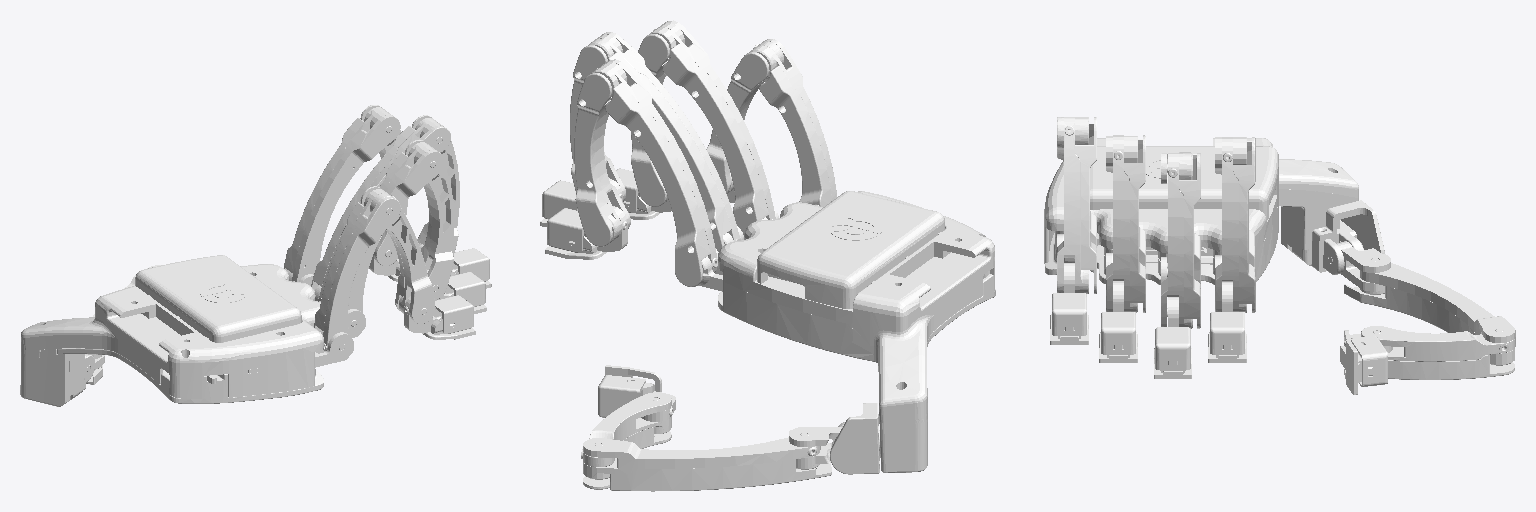
--- Facts derived from the render (not from the file) ---
Views: 3 orthographic renders of the robot side by side, from view 1: azimuth 30°, elevation 25°; view 2: azimuth 150°, elevation 25°; view 3: azimuth 270°, elevation 25°.
Model DexGlove_R_v3 with 22 links and 21 joints (21 revolute), rooted at base_link, posed every joint at zero.
Links seen in each view (by area): view 1: base_link, glove_link_r_2_2, glove_link_r_5_2, glove_link_r_4_3, glove_link_r_5_3, glove_link_r_4_2, glove_link_r_3_2, glove_link_r_5_4, glove_link_r_3_3, glove_link_r_4_4, glove_link_r_2_3, glove_link_r_3_4 (+1 smaller); view 2: base_link, glove_link_r_1_3, glove_link_r_2_2, glove_link_r_4_2, glove_link_r_2_3, glove_link_r_5_2, glove_link_r_3_2, glove_link_r_1_4, glove_link_r_1_1, glove_link_r_4_3, glove_link_r_5_3, glove_link_r_2_4 (+5 smaller); view 3: base_link, glove_link_r_1_3, glove_link_r_1_4, glove_link_r_2_3, glove_link_r_4_3, glove_link_r_3_3, glove_link_r_5_3, glove_link_r_1_1, glove_link_r_1_5, glove_link_r_5_4, glove_link_r_3_4, glove_link_r_4_4 (+6 smaller).
Boxes of the visible links, x1,y1,x2,y2 form: base_link: (20,255,323,406); glove_link_r_2_2: (284,107,400,281); glove_link_r_5_2: (314,189,400,351); glove_link_r_4_3: (405,140,454,299); glove_link_r_5_3: (361,186,435,323); glove_link_r_4_2: (348,142,444,312); glove_link_r_3_2: (311,118,450,301); glove_link_r_5_4: (404,295,475,339); glove_link_r_3_3: (412,115,459,256); glove_link_r_4_4: (427,270,486,313); glove_link_r_2_3: (360,105,408,265); glove_link_r_3_4: (450,248,491,288); base_link: (718,191,995,472); glove_link_r_1_3: (583,437,831,491); glove_link_r_2_2: (591,59,717,286); glove_link_r_4_2: (649,20,775,234); glove_link_r_2_3: (574,62,630,246); glove_link_r_5_2: (749,39,836,206); glove_link_r_3_2: (588,32,740,251); glove_link_r_1_4: (581,393,671,489); glove_link_r_1_1: (830,403,879,474); glove_link_r_4_3: (631,23,684,206); glove_link_r_5_3: (706,41,783,193); glove_link_r_2_4: (545,206,627,259); base_link: (1044,138,1358,284); glove_link_r_1_3: (1344,263,1515,365); glove_link_r_1_4: (1361,326,1515,379); glove_link_r_2_3: (1215,137,1255,312); glove_link_r_4_3: (1106,135,1145,312); glove_link_r_3_3: (1161,153,1200,328); glove_link_r_5_3: (1057,117,1096,293); glove_link_r_1_1: (1312,200,1384,274); glove_link_r_1_5: (1340,330,1392,394); glove_link_r_5_4: (1050,263,1088,344); glove_link_r_3_4: (1154,297,1191,378); glove_link_r_4_4: (1099,281,1137,362).
Bounding box of the posed robot: 0.2157 × 0.1922 × 0.1312 m (x, y, z).
Meshes: 22 distinct files referenced, 22 mesh visuals loaded (22 binary STL).

robot.urdf — DexGlove_R_v3:
<?xml version="1.0" encoding="utf-8"?>
<!-- This URDF was automatically created by SolidWorks to URDF Exporter! Originally created by Stephen Brawner ([email redacted]) 
     Commit Version: 1.6.0-4-g7f85cfe  Build Version: 1.6.7995.38578
     For more information, please see http://wiki.ros.org/sw_urdf_exporter -->
<robot
  name="DexGlove_R_v3">
  <link
    name="base_link">
    <inertial>
      <origin
        xyz="0.023761860315371 0.00951380358483844 -0.0171477452899252"
        rpy="0 0 0" />
      <mass
        value="0.0800001363416735" />
      <inertia
        ixx="8.60941152571589E-05"
        ixy="2.7160955180655E-05"
        ixz="-8.778460116554E-06"
        iyy="7.23337755569218E-05"
        iyz="7.90537520408906E-06"
        izz="0.000150602962193877" />
    </inertial>
    <visual>
      <origin
        xyz="0 0 0"
        rpy="0 0 0" />
      <geometry>
        <mesh
          filename="package://DexGlove_R_v3/meshes/base_link.STL" />
      </geometry>
      <material
        name="">
        <color
          rgba="1 1 1 1" />
      </material>
    </visual>
    <collision>
      <origin
        xyz="0 0 0"
        rpy="0 0 0" />
      <geometry>
        <mesh
          filename="package://DexGlove_R_v3/meshes/base_link.STL" />
      </geometry>
    </collision>
  </link>
  <link
    name="glove_link_r_1_1">
    <inertial>
      <origin
        xyz="-0.00215560282431622 -0.00338452396256511 -0.0131217612115497"
        rpy="0 0 0" />
      <mass
        value="0.00385822214196221" />
      <inertia
        ixx="2.65496370188704E-07"
        ixy="-5.80377894359212E-09"
        ixz="6.46131186950765E-09"
        iyy="2.67304557171569E-07"
        iyz="-3.27448436607223E-08"
        izz="2.83529407418494E-07" />
    </inertial>
    <visual>
      <origin
        xyz="0 0 0"
        rpy="0 0 0" />
      <geometry>
        <mesh
          filename="package://DexGlove_R_v3/meshes/glove_link_r_1_1.STL" />
      </geometry>
      <material
        name="">
        <color
          rgba="1 1 1 1" />
      </material>
    </visual>
    <collision>
      <origin
        xyz="0 0 0"
        rpy="0 0 0" />
      <geometry>
        <mesh
          filename="package://DexGlove_R_v3/meshes/glove_link_r_1_1.STL" />
      </geometry>
    </collision>
  </link>
  <joint
    name="glove_joint_r_1_1"
    type="revolute">
    <origin
      xyz="-0.020715 0.061876 -0.050557"
      rpy="1.0492 1.5085 -1.5708" />
    <parent
      link="base_link" />
    <child
      link="glove_link_r_1_1" />
    <axis
      xyz="0 0 1" />
    <limit
      lower="-3.1416"
      upper="3.1416"
      effort="0"
      velocity="0" />
  </joint>
  <link
    name="glove_link_r_1_2">
    <inertial>
      <origin
        xyz="0.000703204634177113 0.0127309630254523 -0.00288012020718703"
        rpy="0 0 0" />
      <mass
        value="0.00199934399680952" />
      <inertia
        ixx="1.4141492897948E-07"
        ixy="-5.06019699424475E-09"
        ixz="1.28470320759737E-09"
        iyy="5.78189620081375E-08"
        iyz="2.26573887461125E-08"
        izz="1.46649343573011E-07" />
    </inertial>
    <visual>
      <origin
        xyz="0 0 0"
        rpy="0 0 0" />
      <geometry>
        <mesh
          filename="package://DexGlove_R_v3/meshes/glove_link_r_1_2.STL" />
      </geometry>
      <material
        name="">
        <color
          rgba="1 1 1 1" />
      </material>
    </visual>
    <collision>
      <origin
        xyz="0 0 0"
        rpy="0 0 0" />
      <geometry>
        <mesh
          filename="package://DexGlove_R_v3/meshes/glove_link_r_1_2.STL" />
      </geometry>
    </collision>
  </link>
  <joint
    name="glove_joint_r_1_2"
    type="revolute">
    <origin
      xyz="0 0 -0.01925"
      rpy="-1.5708 0.031013 -0.054007" />
    <parent
      link="glove_link_r_1_1" />
    <child
      link="glove_link_r_1_2" />
    <axis
      xyz="0 0 1" />
    <limit
      lower="-3.1416"
      upper="3.1416"
      effort="0"
      velocity="0" />
  </joint>
  <link
    name="glove_link_r_1_3">
    <inertial>
      <origin
        xyz="0.0300564898606841 0.0332986622768831 0.00327888929656313"
        rpy="0 0 0" />
      <mass
        value="0.00757174828550405" />
      <inertia
        ixx="3.77011461304591E-06"
        ixy="-2.69626743699442E-06"
        ixz="1.55556957056538E-08"
        iyy="2.22966959980734E-06"
        iyz="6.16335901993104E-09"
        izz="5.88475844741757E-06" />
    </inertial>
    <visual>
      <origin
        xyz="0 0 0"
        rpy="0 0 0" />
      <geometry>
        <mesh
          filename="package://DexGlove_R_v3/meshes/glove_link_r_1_3.STL" />
      </geometry>
      <material
        name="">
        <color
          rgba="1 1 1 1" />
      </material>
    </visual>
    <collision>
      <origin
        xyz="0 0 0"
        rpy="0 0 0" />
      <geometry>
        <mesh
          filename="package://DexGlove_R_v3/meshes/glove_link_r_1_3.STL" />
      </geometry>
    </collision>
  </link>
  <joint
    name="glove_joint_r_1_3"
    type="revolute">
    <origin
      xyz="0 0.0185 -0.0047"
      rpy="1.5708 1.05 1.5708" />
    <parent
      link="glove_link_r_1_2" />
    <child
      link="glove_link_r_1_3" />
    <axis
      xyz="0 0 -1" />
    <limit
      lower="-3.1416"
      upper="3.1416"
      effort="0"
      velocity="0" />
  </joint>
  <link
    name="glove_link_r_1_4">
    <inertial>
      <origin
        xyz="-0.0273027203066123 0.00433297070625258 0.00241777178524144"
        rpy="0 0 0" />
      <mass
        value="0.00546091639196909" />
      <inertia
        ixx="1.23496798110625E-07"
        ixy="1.24147394764359E-08"
        ixz="2.00681155066105E-08"
        iyy="1.50189627783358E-06"
        iyz="7.83448669164175E-09"
        izz="1.5343988014535E-06" />
    </inertial>
    <visual>
      <origin
        xyz="0 0 0"
        rpy="0 0 0" />
      <geometry>
        <mesh
          filename="package://DexGlove_R_v3/meshes/glove_link_r_1_4.STL" />
      </geometry>
      <material
        name="">
        <color
          rgba="1 1 1 1" />
      </material>
    </visual>
    <collision>
      <origin
        xyz="0 0 0"
        rpy="0 0 0" />
      <geometry>
        <mesh
          filename="package://DexGlove_R_v3/meshes/glove_link_r_1_4.STL" />
      </geometry>
    </collision>
  </link>
  <joint
    name="glove_joint_r_1_4"
    type="revolute">
    <origin
      xyz="0.050645 0.068265 0"
      rpy="0 0 0" />
    <parent
      link="glove_link_r_1_3" />
    <child
      link="glove_link_r_1_4" />
    <axis
      xyz="0 0 -1" />
    <limit
      lower="-3.1416"
      upper="3.1416"
      effort="0"
      velocity="0" />
  </joint>
  <link
    name="glove_link_r_1_5">
    <inertial>
      <origin
        xyz="-0.00576308402246906 0.0141715905203049 -1.25793672523661E-07"
        rpy="0 0 0" />
      <mass
        value="0.00340265713988394" />
      <inertia
        ixx="2.78681728351716E-07"
        ixy="4.89958730526717E-09"
        ixz="-2.02672654226436E-12"
        iyy="1.06533402001961E-07"
        iyz="3.39837380726619E-12"
        izz="2.61408336175759E-07" />
    </inertial>
    <visual>
      <origin
        xyz="0 0 0"
        rpy="0 0 0" />
      <geometry>
        <mesh
          filename="package://DexGlove_R_v3/meshes/glove_link_r_1_5.STL" />
      </geometry>
      <material
        name="">
        <color
          rgba="1 1 1 1" />
      </material>
    </visual>
    <collision>
      <origin
        xyz="0 0 0"
        rpy="0 0 0" />
      <geometry>
        <mesh
          filename="package://DexGlove_R_v3/meshes/glove_link_r_1_5.STL" />
      </geometry>
    </collision>
  </link>
  <joint
    name="glove_joint_r_1_5"
    type="revolute">
    <origin
      xyz="-0.049966 0.0018328 0"
      rpy="0 0 0" />
    <parent
      link="glove_link_r_1_4" />
    <child
      link="glove_link_r_1_5" />
    <axis
      xyz="0 0 -1" />
    <limit
      lower="-3.1416"
      upper="3.1416"
      effort="0"
      velocity="0" />
  </joint>
  <link
    name="glove_link_r_2_1">
    <inertial>
      <origin
        xyz="0.000747078578568816 0.0129611689921841 -0.00251565033753172"
        rpy="0 0 0" />
      <mass
        value="0.00185408804040392" />
      <inertia
        ixx="1.3826521595293E-07"
        ixy="-5.67644938603439E-09"
        ixz="9.85785900713521E-10"
        iyy="5.23525487330407E-08"
        iyz="2.30715174168708E-08"
        izz="1.44653206569029E-07" />
    </inertial>
    <visual>
      <origin
        xyz="0 0 0"
        rpy="0 0 0" />
      <geometry>
        <mesh
          filename="package://DexGlove_R_v3/meshes/glove_link_r_2_1.STL" />
      </geometry>
      <material
        name="">
        <color
          rgba="1 1 1 1" />
      </material>
    </visual>
    <collision>
      <origin
        xyz="0 0 0"
        rpy="0 0 0" />
      <geometry>
        <mesh
          filename="package://DexGlove_R_v3/meshes/glove_link_r_2_1.STL" />
      </geometry>
    </collision>
  </link>
  <joint
    name="glove_joint_r_2_1"
    type="revolute">
    <origin
      xyz="0.074852 0.024382 -0.017"
      rpy="3.1416 0 1.5708" />
    <parent
      link="base_link" />
    <child
      link="glove_link_r_2_1" />
    <axis
      xyz="0 0 1" />
    <limit
      lower="-3.1416"
      upper="3.1416"
      effort="0"
      velocity="0" />
  </joint>
  <link
    name="glove_link_r_2_2">
    <inertial>
      <origin
        xyz="-0.0432047249107304 0.0188212441937342 -0.00192897538363368"
        rpy="0 0 0" />
      <mass
        value="0.00689032055294319" />
      <inertia
        ixx="1.55216189683491E-06"
        ixy="2.28437720762957E-06"
        ixz="2.02312774105471E-09"
        iyy="4.03818002550441E-06"
        iyz="1.20327742388734E-08"
        izz="5.502047740829E-06" />
    </inertial>
    <visual>
      <origin
        xyz="0 0 0"
        rpy="0 0 0" />
      <geometry>
        <mesh
          filename="package://DexGlove_R_v3/meshes/glove_link_r_2_2.STL" />
      </geometry>
      <material
        name="">
        <color
          rgba="1 1 1 1" />
      </material>
    </visual>
    <collision>
      <origin
        xyz="0 0 0"
        rpy="0 0 0" />
      <geometry>
        <mesh
          filename="package://DexGlove_R_v3/meshes/glove_link_r_2_2.STL" />
      </geometry>
    </collision>
  </link>
  <joint
    name="glove_joint_r_2_2"
    type="revolute">
    <origin
      xyz="0 0.0185 -0.0047"
      rpy="0 -1.5708 0" />
    <parent
      link="glove_link_r_2_1" />
    <child
      link="glove_link_r_2_2" />
    <axis
      xyz="0 0 1" />
    <limit
      lower="-3.1416"
      upper="3.1416"
      effort="0"
      velocity="0" />
  </joint>
  <link
    name="glove_link_r_2_3">
    <inertial>
      <origin
        xyz="0.0373475264795882 0.00422086383729055 -0.00270027714902976"
        rpy="0 0 0" />
      <mass
        value="0.00556501270482669" />
      <inertia
        ixx="1.5408832390469E-07"
        ixy="6.31594517824487E-08"
        ixz="2.82032055407321E-09"
        iyy="2.78387109298286E-06"
        iyz="-2.2972311186309E-09"
        izz="2.8588292783013E-06" />
    </inertial>
    <visual>
      <origin
        xyz="0 0 0"
        rpy="0 0 0" />
      <geometry>
        <mesh
          filename="package://DexGlove_R_v3/meshes/glove_link_r_2_3.STL" />
      </geometry>
      <material
        name="">
        <color
          rgba="1 1 1 1" />
      </material>
    </visual>
    <collision>
      <origin
        xyz="0 0 0"
        rpy="0 0 0" />
      <geometry>
        <mesh
          filename="package://DexGlove_R_v3/meshes/glove_link_r_2_3.STL" />
      </geometry>
    </collision>
  </link>
  <joint
    name="glove_joint_r_2_3"
    type="revolute">
    <origin
      xyz="-0.073326 0.042996 -0.0001"
      rpy="0 0 0" />
    <parent
      link="glove_link_r_2_2" />
    <child
      link="glove_link_r_2_3" />
    <axis
      xyz="0 0 1" />
    <limit
      lower="-3.1416"
      upper="3.1416"
      effort="0"
      velocity="0" />
  </joint>
  <link
    name="glove_link_r_2_4">
    <inertial>
      <origin
        xyz="0.00925772788453139 0.0130310623410815 4.64213166795346E-08"
        rpy="0 0 0" />
      <mass
        value="0.00329765568443397" />
      <inertia
        ixx="2.60953801146797E-07"
        ixy="-5.2973147605156E-08"
        ixz="-3.04246220291912E-12"
        iyy="1.0984655124966E-07"
        iyz="-5.64849613594494E-12"
        izz="2.70314932688703E-07" />
    </inertial>
    <visual>
      <origin
        xyz="0 0 0"
        rpy="0 0 0" />
      <geometry>
        <mesh
          filename="package://DexGlove_R_v3/meshes/glove_link_r_2_4.STL" />
      </geometry>
      <material
        name="">
        <color
          rgba="1 1 1 1" />
      </material>
    </visual>
    <collision>
      <origin
        xyz="0 0 0"
        rpy="0 0 0" />
      <geometry>
        <mesh
          filename="package://DexGlove_R_v3/meshes/glove_link_r_2_4.STL" />
      </geometry>
    </collision>
  </link>
  <joint
    name="glove_joint_r_2_4"
    type="revolute">
    <origin
      xyz="0.064976 -0.00029093 0.0001"
      rpy="0 0 0" />
    <parent
      link="glove_link_r_2_3" />
    <child
      link="glove_link_r_2_4" />
    <axis
      xyz="0 0 1" />
    <limit
      lower="-3.1416"
      upper="3.1416"
      effort="0"
      velocity="0" />
  </joint>
  <link
    name="glove_link_r_3_1">
    <inertial>
      <origin
        xyz="0.000747078356090336 0.0129546278341492 -0.00252357406932724"
        rpy="0 0 0" />
      <mass
        value="0.00185408804040393" />
      <inertia
        ixx="1.38265216147807E-07"
        ixy="-5.67378167842018E-09"
        ixz="9.89015279335301E-10"
        iyy="5.22983364011677E-08"
        iyz="2.30610586528733E-08"
        izz="1.44707418706026E-07" />
    </inertial>
    <visual>
      <origin
        xyz="0 0 0"
        rpy="0 0 0" />
      <geometry>
        <mesh
          filename="package://DexGlove_R_v3/meshes/glove_link_r_3_1.STL" />
      </geometry>
      <material
        name="">
        <color
          rgba="1 1 1 1" />
      </material>
    </visual>
    <collision>
      <origin
        xyz="0 0 0"
        rpy="0 0 0" />
      <geometry>
        <mesh
          filename="package://DexGlove_R_v3/meshes/glove_link_r_3_1.STL" />
      </geometry>
    </collision>
  </link>
  <joint
    name="glove_joint_r_3_1"
    type="revolute">
    <origin
      xyz="0.076856 0.0021271 -0.01675"
      rpy="3.1416 0 1.5708" />
    <parent
      link="base_link" />
    <child
      link="glove_link_r_3_1" />
    <axis
      xyz="0 0 1" />
    <limit
      lower="-3.1416"
      upper="3.1416"
      effort="0"
      velocity="0" />
  </joint>
  <link
    name="glove_link_r_3_2">
    <inertial>
      <origin
        xyz="-0.0437503754011137 0.0254652883230961 -0.00193337245558944"
        rpy="0 0 0" />
      <mass
        value="0.00714939436781028" />
      <inertia
        ixx="2.63983476830821E-06"
        ixy="3.10758948967801E-06"
        ixz="8.34288494523747E-09"
        iyy="4.22295638672389E-06"
        iyz="1.00310120051534E-08"
        izz="6.77592921190429E-06" />
    </inertial>
    <visual>
      <origin
        xyz="0 0 0"
        rpy="0 0 0" />
      <geometry>
        <mesh
          filename="package://DexGlove_R_v3/meshes/glove_link_r_3_2.STL" />
      </geometry>
      <material
        name="">
        <color
          rgba="1 1 1 1" />
      </material>
    </visual>
    <collision>
      <origin
        xyz="0 0 0"
        rpy="0 0 0" />
      <geometry>
        <mesh
          filename="package://DexGlove_R_v3/meshes/glove_link_r_3_2.STL" />
      </geometry>
    </collision>
  </link>
  <joint
    name="glove_joint_r_3_2"
    type="revolute">
    <origin
      xyz="0 0.0185 -0.0047"
      rpy="0 -1.5708 0" />
    <parent
      link="glove_link_r_3_1" />
    <child
      link="glove_link_r_3_2" />
    <axis
      xyz="0 0 1" />
    <limit
      lower="-3.1416"
      upper="3.1416"
      effort="0"
      velocity="0" />
  </joint>
  <link
    name="glove_link_r_3_3">
    <inertial>
      <origin
        xyz="0.0373342972773562 0.00433589063270132 -0.00270667841776762"
        rpy="0 0 0" />
      <mass
        value="0.00556501261668927" />
      <inertia
        ixx="1.53717054500497E-07"
        ixy="5.51257812971243E-08"
        ixz="2.82525599982385E-09"
        iyy="2.78424229454622E-06"
        iyz="-2.29015298179469E-09"
        izz="2.85882921129466E-06" />
    </inertial>
    <visual>
      <origin
        xyz="0 0 0"
        rpy="0 0 0" />
      <geometry>
        <mesh
          filename="package://DexGlove_R_v3/meshes/glove_link_r_3_3.STL" />
      </geometry>
      <material
        name="">
        <color
          rgba="1 1 1 1" />
      </material>
    </visual>
    <collision>
      <origin
        xyz="0 0 0"
        rpy="0 0 0" />
      <geometry>
        <mesh
          filename="package://DexGlove_R_v3/meshes/glove_link_r_3_3.STL" />
      </geometry>
    </collision>
  </link>
  <joint
    name="glove_joint_r_3_3"
    type="revolute">
    <origin
      xyz="-0.073077 0.055905 0"
      rpy="0 0 0" />
    <parent
      link="glove_link_r_3_2" />
    <child
      link="glove_link_r_3_3" />
    <axis
      xyz="0 0 1" />
    <limit
      lower="-3.1416"
      upper="3.1416"
      effort="0"
      velocity="0" />
  </joint>
  <link
    name="glove_link_r_3_4">
    <inertial>
      <origin
        xyz="0.00925772788453095 0.0130310623145435 4.65750134015508E-08"
        rpy="0 0 0" />
      <mass
        value="0.00329765568443365" />
      <inertia
        ixx="2.60953801146768E-07"
        ixy="-5.29731476051154E-08"
        ixz="-3.0430870017335E-12"
        iyy="1.09846551249788E-07"
        iyz="-5.65038881151817E-12"
        izz="2.70314932688544E-07" />
    </inertial>
    <visual>
      <origin
        xyz="0 0 0"
        rpy="0 0 0" />
      <geometry>
        <mesh
          filename="package://DexGlove_R_v3/meshes/glove_link_r_3_4.STL" />
      </geometry>
      <material
        name="">
        <color
          rgba="1 1 1 1" />
      </material>
    </visual>
    <collision>
      <origin
        xyz="0 0 0"
        rpy="0 0 0" />
      <geometry>
        <mesh
          filename="package://DexGlove_R_v3/meshes/glove_link_r_3_4.STL" />
      </geometry>
    </collision>
  </link>
  <joint
    name="glove_joint_r_3_4"
    type="revolute">
    <origin
      xyz="0.064977 -8.5765E-05 0"
      rpy="0 0 0" />
    <parent
      link="glove_link_r_3_3" />
    <child
      link="glove_link_r_3_4" />
    <axis
      xyz="0 0 1" />
    <limit
      lower="-3.1416"
      upper="3.1416"
      effort="0"
      velocity="0" />
  </joint>
  <link
    name="glove_link_r_4_1">
    <inertial>
      <origin
        xyz="0.000747078508896659 0.0129578089451243 -0.00250603590511165"
        rpy="0 0 0" />
      <mass
        value="0.0018540880404039" />
      <inertia
        ixx="1.38265216013955E-07"
        ixy="-5.6750793414947E-09"
        ixz="9.81866859466802E-10"
        iyy="5.23183644678508E-08"
        iyz="2.31144513264536E-08"
        izz="1.44687390773191E-07" />
    </inertial>
    <visual>
      <origin
        xyz="0 0 0"
        rpy="0 0 0" />
      <geometry>
        <mesh
          filename="package://DexGlove_R_v3/meshes/glove_link_r_4_1.STL" />
      </geometry>
      <material
        name="">
        <color
          rgba="1 1 1 1" />
      </material>
    </visual>
    <collision>
      <origin
        xyz="0 0 0"
        rpy="0 0 0" />
      <geometry>
        <mesh
          filename="package://DexGlove_R_v3/meshes/glove_link_r_4_1.STL" />
      </geometry>
    </collision>
  </link>
  <joint
    name="glove_joint_r_4_1"
    type="revolute">
    <origin
      xyz="0.072856 -0.020125 -0.01675"
      rpy="3.1416 0 1.5708" />
    <parent
      link="base_link" />
    <child
      link="glove_link_r_4_1" />
    <axis
      xyz="0 0 1" />
    <limit
      lower="-3.1416"
      upper="3.1416"
      effort="0"
      velocity="0" />
  </joint>
  <link
    name="glove_link_r_4_2">
    <inertial>
      <origin
        xyz="-0.0430884132210104 0.0190905916088625 -0.00192897541064418"
        rpy="0 0 0" />
      <mass
        value="0.00689032059597664" />
      <inertia
        ixx="1.58042021295108E-06"
        ixy="2.29956267231873E-06"
        ixz="2.09602471223716E-09"
        iyy="4.00992174752506E-06"
        iyz="1.20161069466051E-08"
        izz="5.50204777893461E-06" />
    </inertial>
    <visual>
      <origin
        xyz="0 0 0"
        rpy="0 0 0" />
      <geometry>
        <mesh
          filename="package://DexGlove_R_v3/meshes/glove_link_r_4_2.STL" />
      </geometry>
      <material
        name="">
        <color
          rgba="1 1 1 1" />
      </material>
    </visual>
    <collision>
      <origin
        xyz="0 0 0"
        rpy="0 0 0" />
      <geometry>
        <mesh
          filename="package://DexGlove_R_v3/meshes/glove_link_r_4_2.STL" />
      </geometry>
    </collision>
  </link>
  <joint
    name="glove_joint_r_4_2"
    type="revolute">
    <origin
      xyz="0 0.0185 -0.0047"
      rpy="0 -1.5708 0" />
    <parent
      link="glove_link_r_4_1" />
    <child
      link="glove_link_r_4_2" />
    <axis
      xyz="0 0 1" />
    <limit
      lower="-3.1416"
      upper="3.1416"
      effort="0"
      velocity="0" />
  </joint>
  <link
    name="glove_link_r_4_3">
    <inertial>
      <origin
        xyz="0.0372363657672597 0.00510874992183366 -0.00270454458666469"
        rpy="0 0 0" />
      <mass
        value="0.00556501163223649" />
      <inertia
        ixx="1.52565231755437E-07"
        ixy="5.45417482540578E-10"
        ixz="2.87276702758357E-09"
        iyy="2.78539357233941E-06"
        iyz="-2.23049102822039E-09"
        izz="2.85882865912642E-06" />
    </inertial>
    <visual>
      <origin
        xyz="0 0 0"
        rpy="0 0 0" />
      <geometry>
        <mesh
          filename="package://DexGlove_R_v3/meshes/glove_link_r_4_3.STL" />
      </geometry>
      <material
        name="">
        <color
          rgba="1 1 1 1" />
      </material>
    </visual>
    <collision>
      <origin
        xyz="0 0 0"
        rpy="0 0 0" />
      <geometry>
        <mesh
          filename="package://DexGlove_R_v3/meshes/glove_link_r_4_3.STL" />
      </geometry>
    </collision>
  </link>
  <joint
    name="glove_joint_r_4_3"
    type="revolute">
    <origin
      xyz="-0.073065 0.043442 0"
      rpy="0 0 0" />
    <parent
      link="glove_link_r_4_2" />
    <child
      link="glove_link_r_4_3" />
    <axis
      xyz="0 0 1" />
    <limit
      lower="-3.1416"
      upper="3.1416"
      effort="0"
      velocity="0" />
  </joint>
  <link
    name="glove_link_r_4_4">
    <inertial>
      <origin
        xyz="0.00925772788453125 0.0130310623410814 4.64213162354454E-08"
        rpy="0 0 0" />
      <mass
        value="0.00329765568443398" />
      <inertia
        ixx="2.60953801146803E-07"
        ixy="-5.29731476051561E-08"
        ixz="-3.04246220287962E-12"
        iyy="1.09846551249661E-07"
        iyz="-5.6484961331052E-12"
        izz="2.70314932688709E-07" />
    </inertial>
    <visual>
      <origin
        xyz="0 0 0"
        rpy="0 0 0" />
      <geometry>
        <mesh
          filename="package://DexGlove_R_v3/meshes/glove_link_r_4_4.STL" />
      </geometry>
      <material
        name="">
        <color
          rgba="1 1 1 1" />
      </material>
    </visual>
    <collision>
      <origin
        xyz="0 0 0"
        rpy="0 0 0" />
      <geometry>
        <mesh
          filename="package://DexGlove_R_v3/meshes/glove_link_r_4_4.STL" />
      </geometry>
    </collision>
  </link>
  <joint
    name="glove_joint_r_4_4"
    type="revolute">
    <origin
      xyz="0.064965 0.0012591 0"
      rpy="0 0 0" />
    <parent
      link="glove_link_r_4_3" />
    <child
      link="glove_link_r_4_4" />
    <axis
      xyz="0 0 1" />
    <limit
      lower="-3.1416"
      upper="3.1416"
      effort="0"
      velocity="0" />
  </joint>
  <link
    name="glove_link_r_5_1">
    <inertial>
      <origin
        xyz="0.000747078469971685 0.0129542437218486 -0.00250397139958741"
        rpy="0 0 0" />
      <mass
        value="0.00185408804040391" />
      <inertia
        ixx="1.38265216048051E-07"
        ixy="-5.67362586970243E-09"
        ixz="9.81025281521775E-10"
        iyy="5.22967300625831E-08"
        iyz="2.31020348480337E-08"
        izz="1.44709025144363E-07" />
    </inertial>
    <visual>
      <origin
        xyz="0 0 0"
        rpy="0 0 0" />
      <geometry>
        <mesh
          filename="package://DexGlove_R_v3/meshes/glove_link_r_5_1.STL" />
      </geometry>
      <material
        name="">
        <color
          rgba="1 1 1 1" />
      </material>
    </visual>
    <collision>
      <origin
        xyz="0 0 0"
        rpy="0 0 0" />
      <geometry>
        <mesh
          filename="package://DexGlove_R_v3/meshes/glove_link_r_5_1.STL" />
      </geometry>
    </collision>
  </link>
  <joint
    name="glove_joint_r_5_1"
    type="revolute">
    <origin
      xyz="0.054856 -0.040125 -0.01675"
      rpy="-3.1416 0 1.5708" />
    <parent
      link="base_link" />
    <child
      link="glove_link_r_5_1" />
    <axis
      xyz="0 0 1" />
    <limit
      lower="-3.1416"
      upper="3.1416"
      effort="0"
      velocity="0" />
  </joint>
  <link
    name="glove_link_r_5_2">
    <inertial>
      <origin
        xyz="-0.0377511137570105 0.0103117298233965 -0.00190285306973448"
        rpy="0 0 0" />
      <mass
        value="0.00576773064486739" />
      <inertia
        ixx="5.60438385538893E-07"
        ixy="1.03395210537287E-06"
        ixz="-1.85893116849145E-09"
        iyy="2.69965910418639E-06"
        iyz="1.01236697792008E-08"
        izz="3.18135158700318E-06" />
    </inertial>
    <visual>
      <origin
        xyz="0 0 0"
        rpy="0 0 0" />
      <geometry>
        <mesh
          filename="package://DexGlove_R_v3/meshes/glove_link_r_5_2.STL" />
      </geometry>
      <material
        name="">
        <color
          rgba="1 1 1 1" />
      </material>
    </visual>
    <collision>
      <origin
        xyz="0 0 0"
        rpy="0 0 0" />
      <geometry>
        <mesh
          filename="package://DexGlove_R_v3/meshes/glove_link_r_5_2.STL" />
      </geometry>
    </collision>
  </link>
  <joint
    name="glove_joint_r_5_2"
    type="revolute">
    <origin
      xyz="0 0.0185 -0.0047"
      rpy="0 -1.5708 0" />
    <parent
      link="glove_link_r_5_1" />
    <child
      link="glove_link_r_5_2" />
    <axis
      xyz="0 0 1" />
    <limit
      lower="-3.1416"
      upper="3.1416"
      effort="0"
      velocity="0" />
  </joint>
  <link
    name="glove_link_r_5_3">
    <inertial>
      <origin
        xyz="0.0319616133109541 0.0136908276570892 -0.0026673703140323"
        rpy="0 0 0" />
      <mass
        value="0.00511702595572813" />
      <inertia
        ixx="2.98860905848742E-07"
        ixy="-5.94474194780334E-07"
        ixz="6.96742967592607E-09"
        iyy="2.00647845514208E-06"
        iyz="3.89976581395725E-10"
        izz="2.23242411259509E-06" />
    </inertial>
    <visual>
      <origin
        xyz="0 0 0"
        rpy="0 0 0" />
      <geometry>
        <mesh
          filename="package://DexGlove_R_v3/meshes/glove_link_r_5_3.STL" />
      </geometry>
      <material
        name="">
        <color
          rgba="1 1 1 1" />
      </material>
    </visual>
    <collision>
      <origin
        xyz="0 0 0"
        rpy="0 0 0" />
      <geometry>
        <mesh
          filename="package://DexGlove_R_v3/meshes/glove_link_r_5_3.STL" />
      </geometry>
    </collision>
  </link>
  <joint
    name="glove_joint_r_5_3"
    type="revolute">
    <origin
      xyz="-0.065037 0.025888 0"
      rpy="0 0 0" />
    <parent
      link="glove_link_r_5_2" />
    <child
      link="glove_link_r_5_3" />
    <axis
      xyz="0 0 1" />
    <limit
      lower="-3.1416"
      upper="3.1416"
      effort="0"
      velocity="0" />
  </joint>
  <link
    name="glove_link_r_5_4">
    <inertial>
      <origin
        xyz="0.00925772788458982 0.0130310623342812 4.64604593686246E-08"
        rpy="0 0 0" />
      <mass
        value="0.00329765568443396" />
      <inertia
        ixx="2.60953801146321E-07"
        ixy="-5.29731476058253E-08"
        ixz="-3.04262132699591E-12"
        iyy="1.09846551250171E-07"
        iyz="-5.64897816187756E-12"
        izz="2.70314932688668E-07" />
    </inertial>
    <visual>
      <origin
        xyz="0 0 0"
        rpy="0 0 0" />
      <geometry>
        <mesh
          filename="package://DexGlove_R_v3/meshes/glove_link_r_5_4.STL" />
      </geometry>
      <material
        name="">
        <color
          rgba="1 1 1 1" />
      </material>
    </visual>
    <collision>
      <origin
        xyz="0 0 0"
        rpy="0 0 0" />
      <geometry>
        <mesh
          filename="package://DexGlove_R_v3/meshes/glove_link_r_5_4.STL" />
      </geometry>
    </collision>
  </link>
  <joint
    name="glove_joint_r_5_4"
    type="revolute">
    <origin
      xyz="0.056937 0.018926 0"
      rpy="0 0 0" />
    <parent
      link="glove_link_r_5_3" />
    <child
      link="glove_link_r_5_4" />
    <axis
      xyz="0 0 1" />
    <limit
      lower="-3.1416"
      upper="3.1416"
      effort="0"
      velocity="0" />
  </joint>
</robot>
